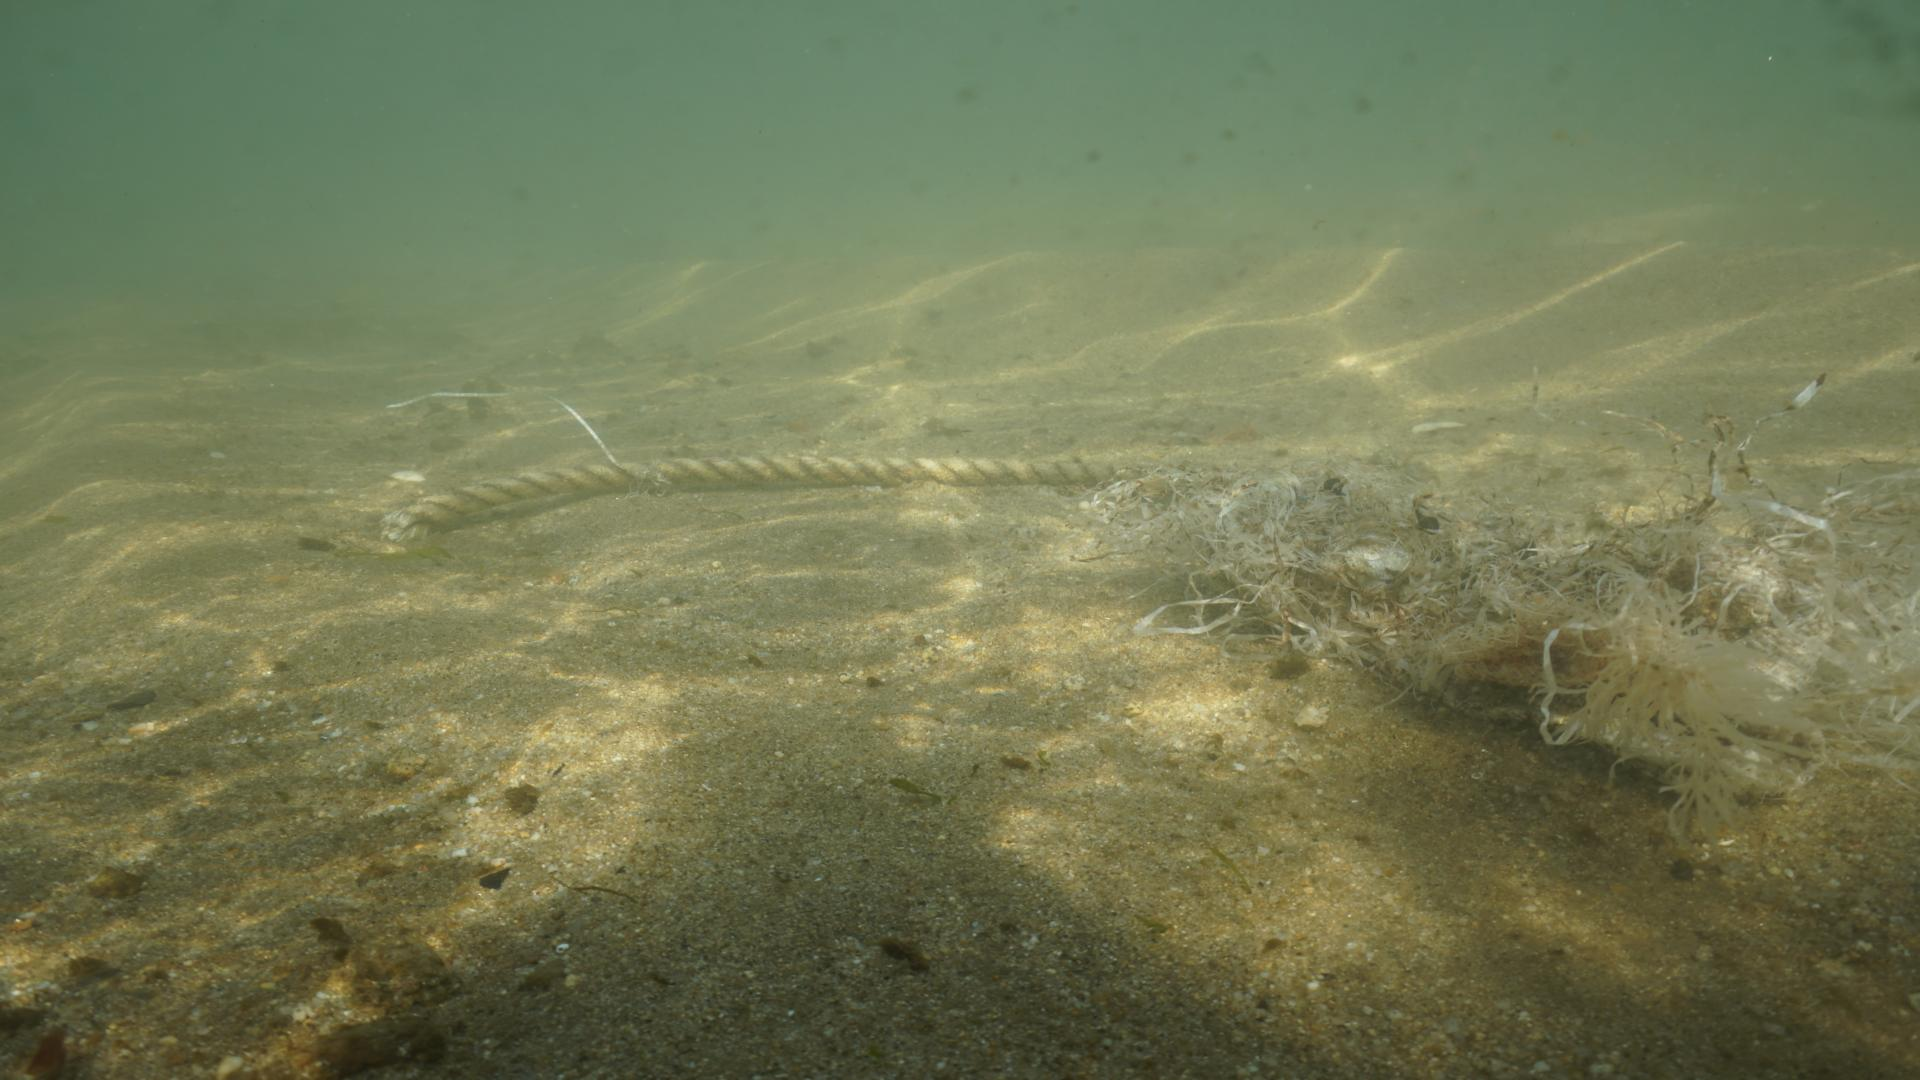bundle of ropes: (378, 446, 1158, 539)
